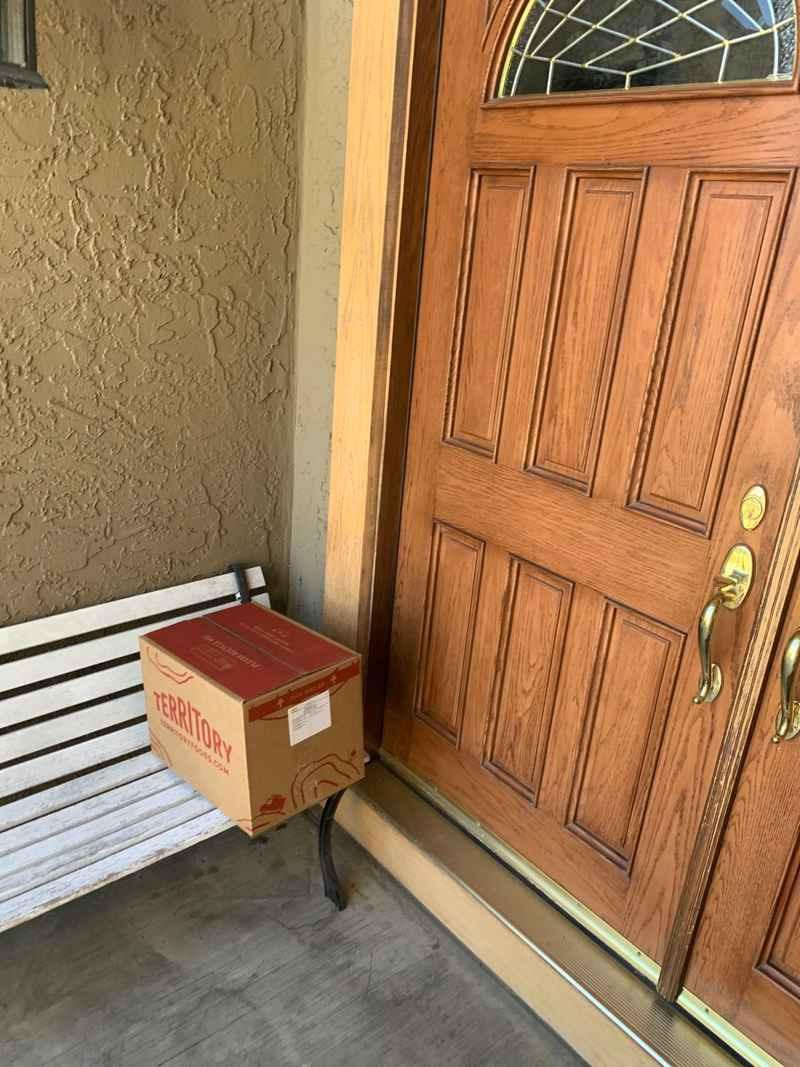package: (129, 602, 382, 842)
